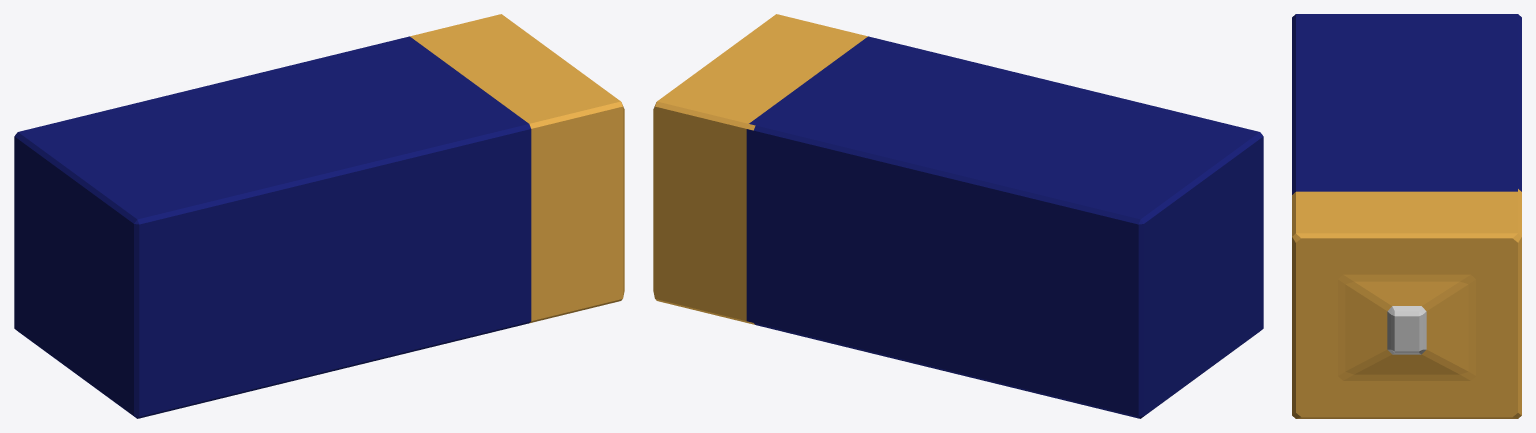
Rendered from battery_part_blue.dae.
3 views of the same model, side by side, from view 1: azimuth 30°, elevation 25°; view 2: azimuth 150°, elevation 25°; view 3: azimuth 270°, elevation 25° (orthographic). The views are drawn at different scales.
Parts seen in each view (by area): view 1: BATTERY; view 2: BATTERY; view 3: BATTERY.
Part boxes in pixels (x1,y1,x2,y2): BATTERY: (14,14,624,418); BATTERY: (653,14,1263,418); BATTERY: (1292,14,1521,418).
Bounding box in the file's own units: 0.1408 × 0.0598 × 0.0533.
